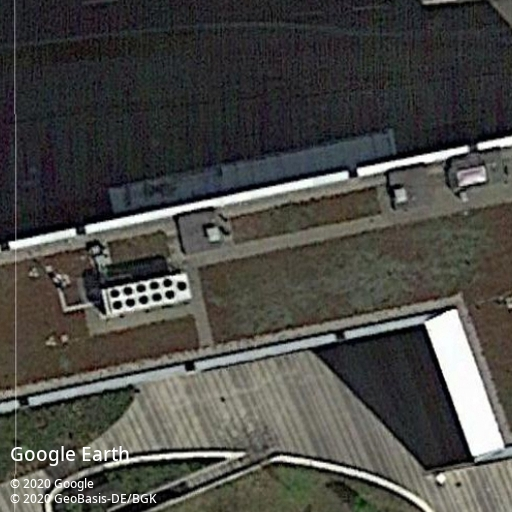Chiller: (100, 273, 193, 318)
